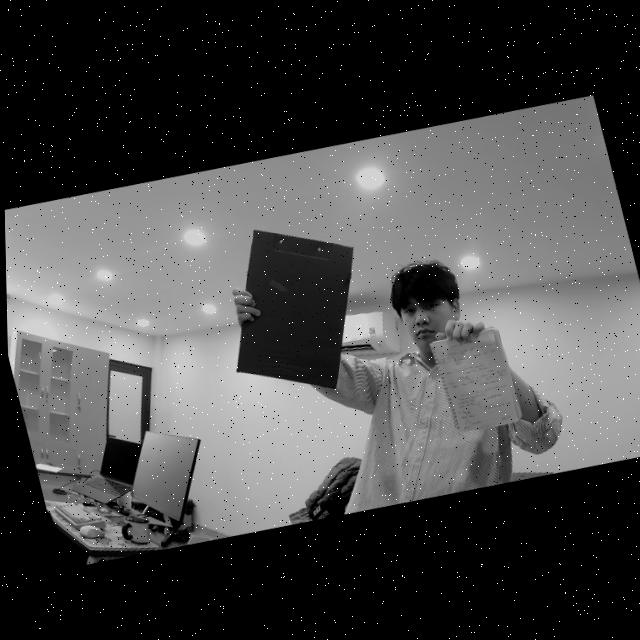document: (429, 326, 523, 432)
face: (388, 284, 465, 346)
